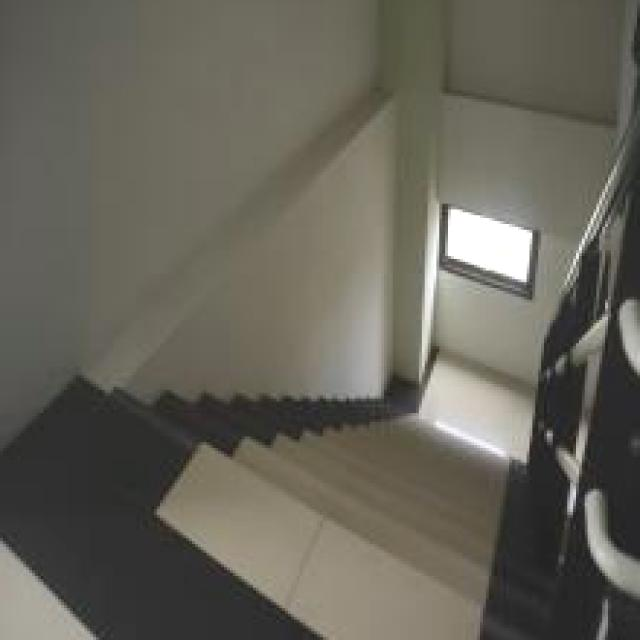downstair: (190, 403, 522, 606)
